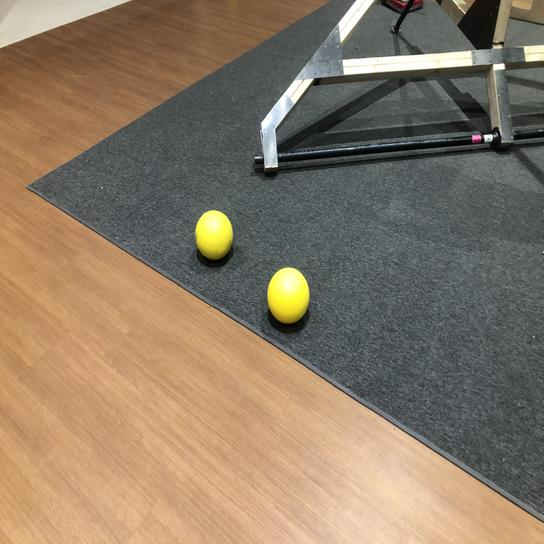ball: (265, 264, 311, 331), (193, 206, 233, 263)
